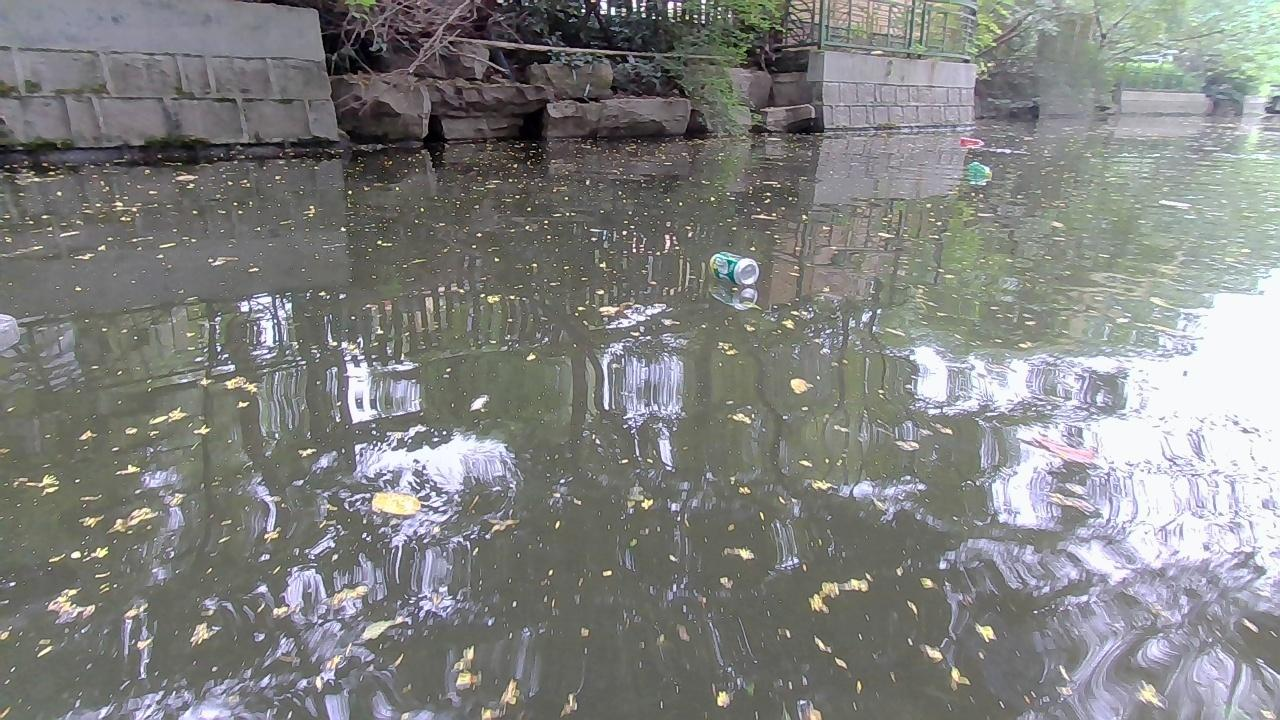bottle: (706, 250, 759, 286), (966, 160, 992, 178), (958, 136, 985, 147)
